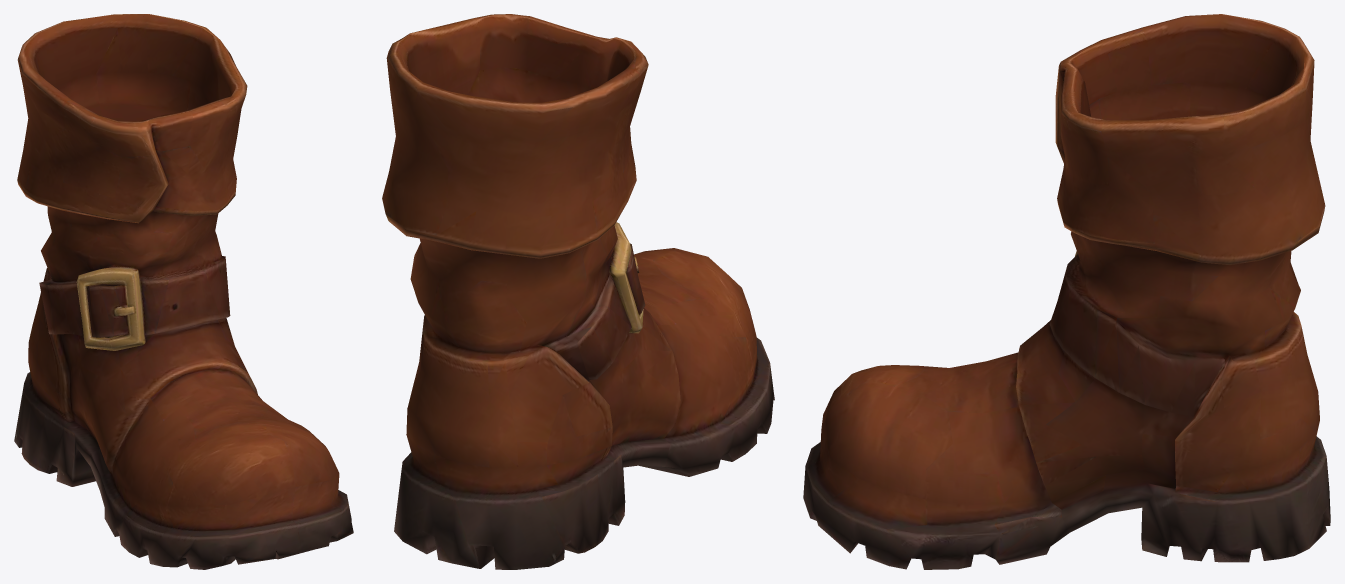
File: botte_apprenti.glb
3 views of the same model, side by side, from view 1: azimuth 30°, elevation 25°; view 2: azimuth 150°, elevation 25°; view 3: azimuth 270°, elevation 25° (orthographic). The views are drawn at different scales.
Bounding box in the file's own units: 0.4107 × 0.8008 × 0.8281.
Materials: 1 (1 with a texture image).
